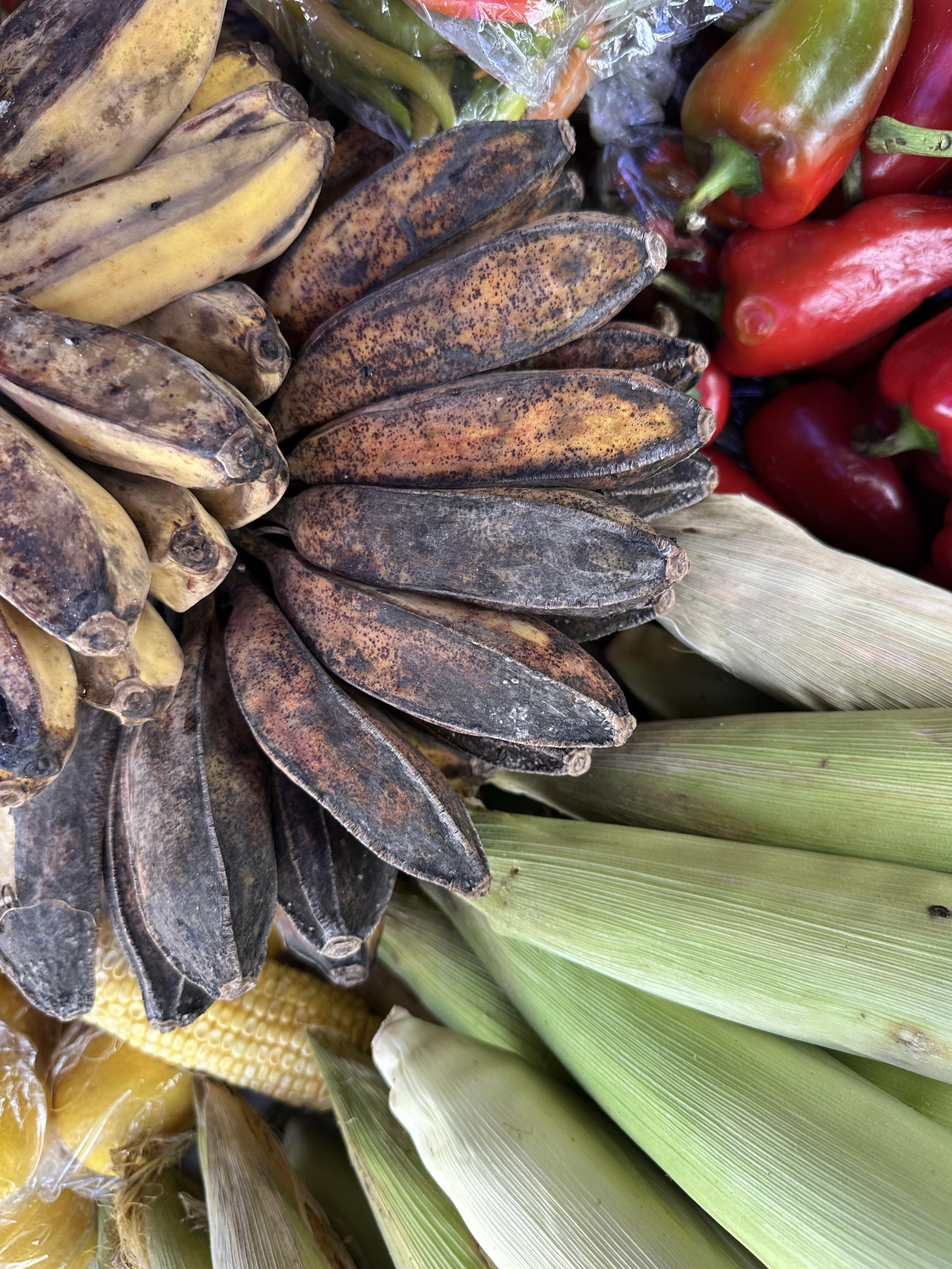overripe: (2, 117, 720, 1036)
ripe: (0, 0, 336, 812)
